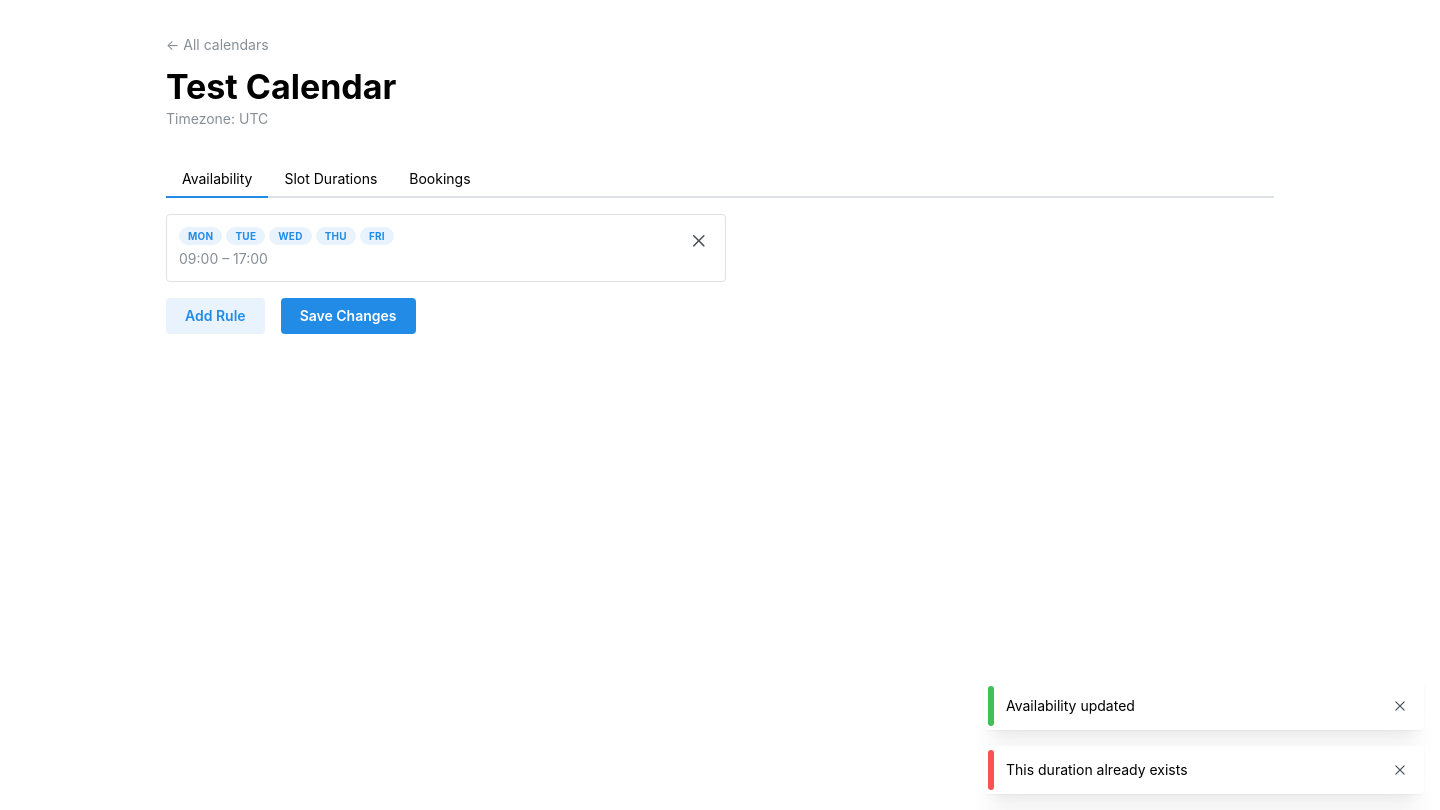
Test: ManagePage › Slot Durations tab › shows notification when deleting the last duration (409)
Expected: the heading "Test Calendar" is shown, [166, 66, 396, 107]
Click the tab "Slot Durations" at (331, 180), box [268, 162, 393, 198]
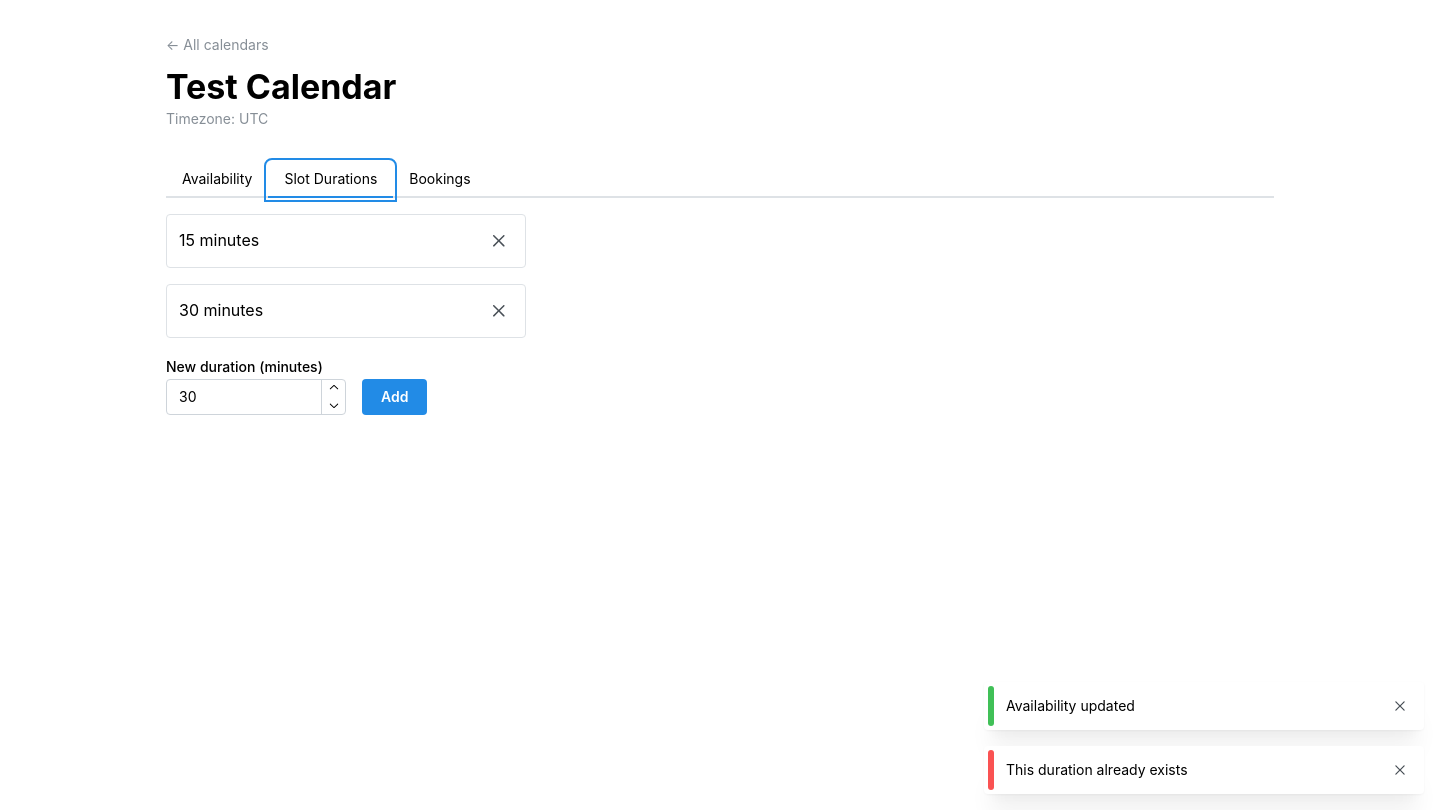
Expected: the text "15 minutes" is shown, [179, 228, 259, 253]
Click the button named "Remove duration" in the row of "15" at (499, 241), box [485, 227, 513, 255]
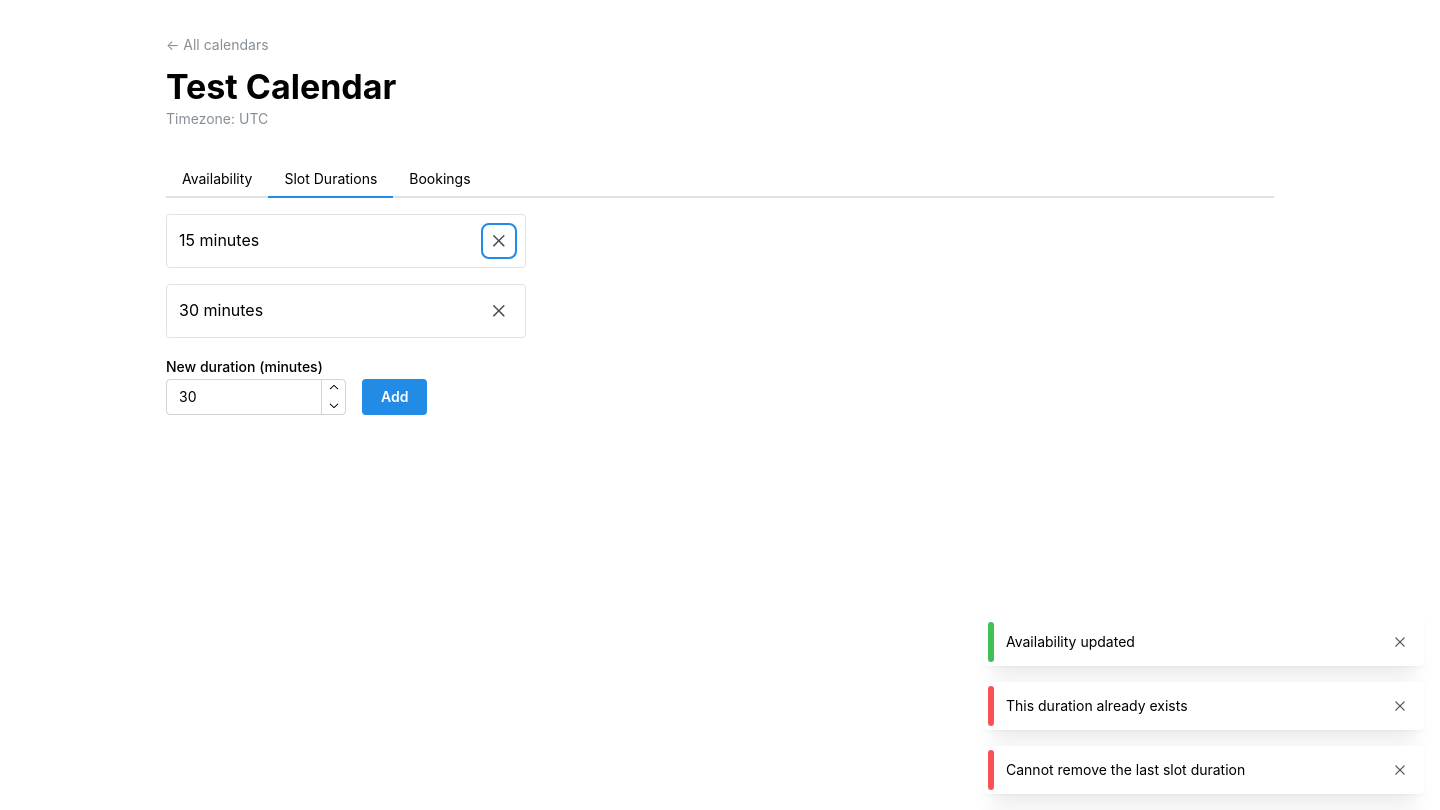
Expected: the text "Cannot remove the last slot duration" is shown, [1006, 761, 1245, 778]
